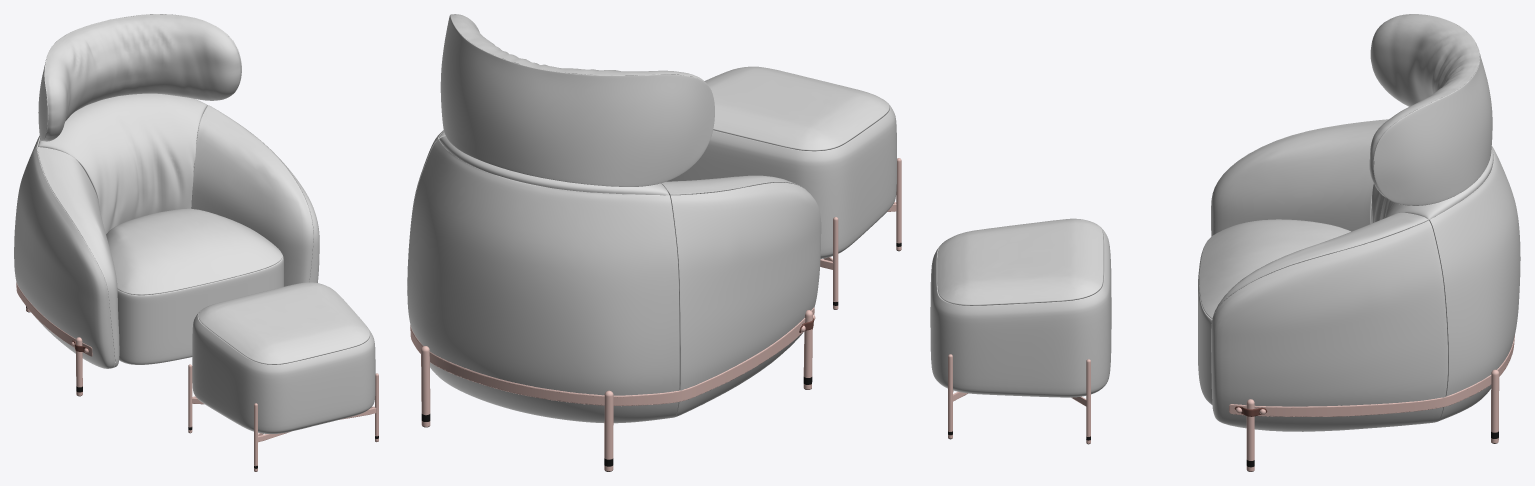
File: SLN_JADE_SENIOR.glb
The picture shows the model from 3 angles, left to right: view 1: azimuth 30°, elevation 25°; view 2: azimuth 150°, elevation 25°; view 3: azimuth 270°, elevation 25°; orthographic projection. The views are drawn at different scales.
Parts seen in each view (by area): view 1: JADE SENIOR.002; view 2: JADE SENIOR.002; view 3: JADE SENIOR.002.
Boxes of the visible parts, x1,y1,x2,y2 form: JADE SENIOR.002: [14, 14, 378, 471]; JADE SENIOR.002: [407, 14, 901, 471]; JADE SENIOR.002: [930, 14, 1520, 471].
Bounding box in the file's own units: 0.9813 × 1.09 × 1.69.
